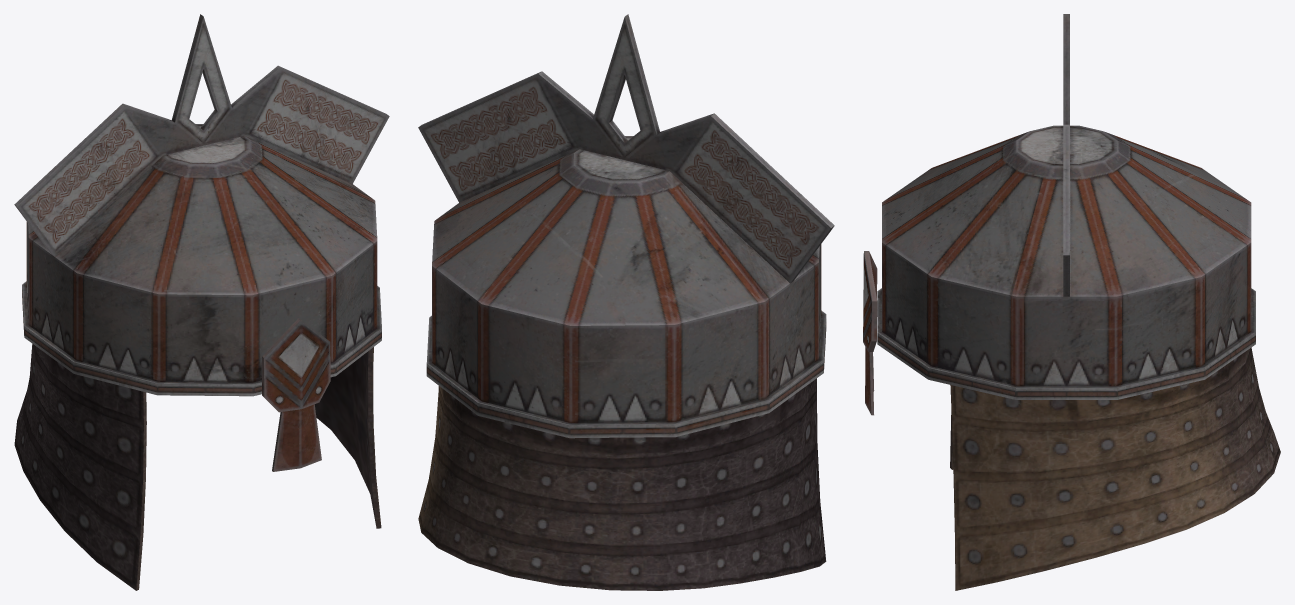
The model's file is sk_dwarf_iron_helmet_med_a2.fbx.
3 views of the same model, side by side, from view 1: azimuth 30°, elevation 25°; view 2: azimuth 150°, elevation 25°; view 3: azimuth 270°, elevation 25° (orthographic). The views are drawn at different scales.
Parts seen in each view (by area): view 1: sk_dwarf_iron_helmet_med_a2; view 2: sk_dwarf_iron_helmet_med_a2; view 3: sk_dwarf_iron_helmet_med_a2.
Boxes of the visible parts, x1=… form: sk_dwarf_iron_helmet_med_a2: x1=14, y1=14, x2=389, y2=590; sk_dwarf_iron_helmet_med_a2: x1=418, y1=14, x2=834, y2=590; sk_dwarf_iron_helmet_med_a2: x1=863, y1=14, x2=1280, y2=590.
Bounding box in the file's own units: 0.3245 × 0.3089 × 0.4204.
Materials: 1 (1 with a texture image).
